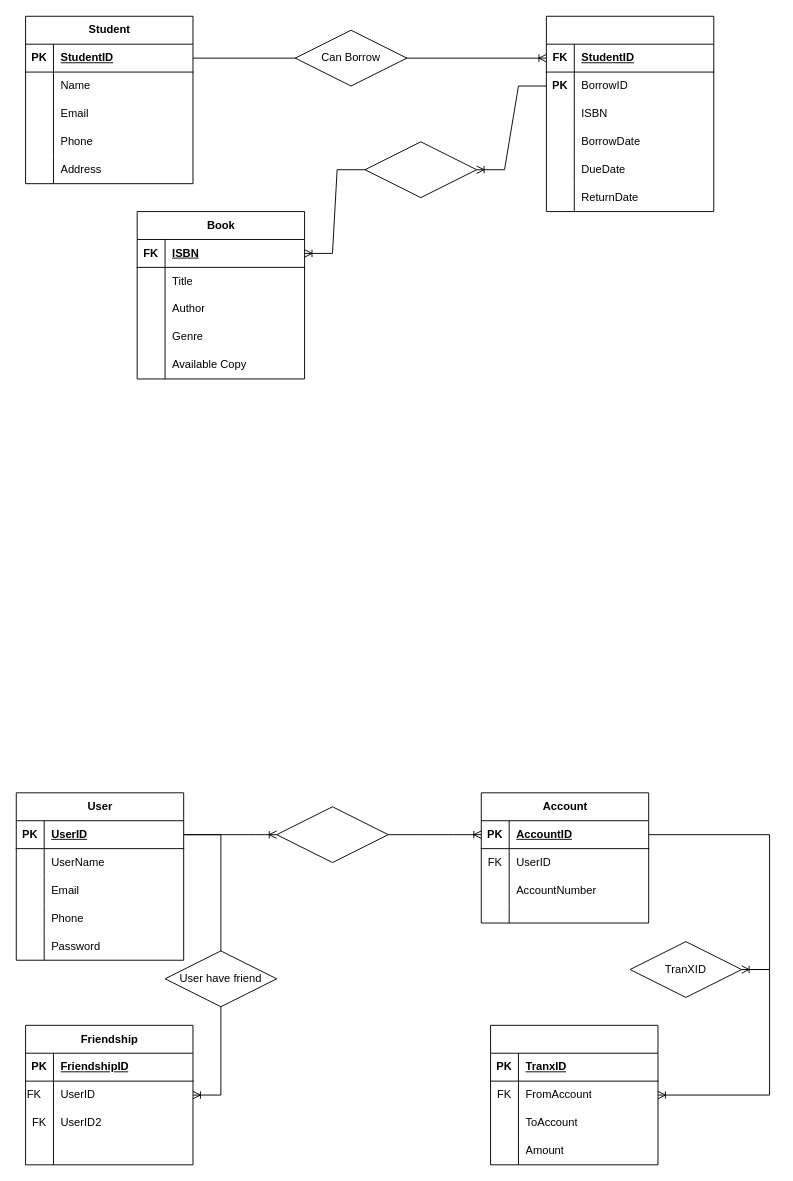
This 793x1181 diagram has some shape labels left out. The box of each missing label's shape, as (x1, y1, x2, y2) in pixels:
Borrowing: (545, 15, 714, 212)
Can Borrow book: (364, 141, 477, 198)
Have Acc: (276, 806, 388, 863)
Transaction: (490, 1024, 658, 1165)
